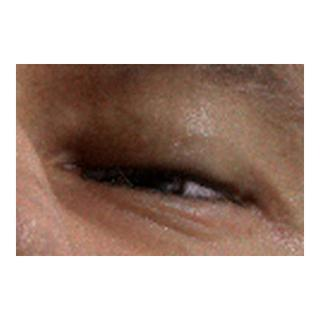pupil: (126, 164, 162, 200)
